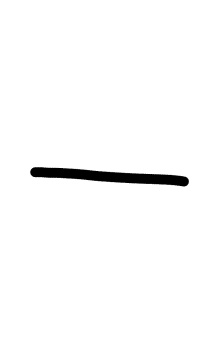Line: (27, 160, 191, 192)
